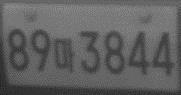3: (78, 29, 101, 74)
4: (151, 30, 176, 76), (126, 30, 150, 75)
8: (103, 29, 126, 75), (7, 28, 30, 71)
9: (30, 29, 52, 71)
마: (52, 36, 76, 74)
